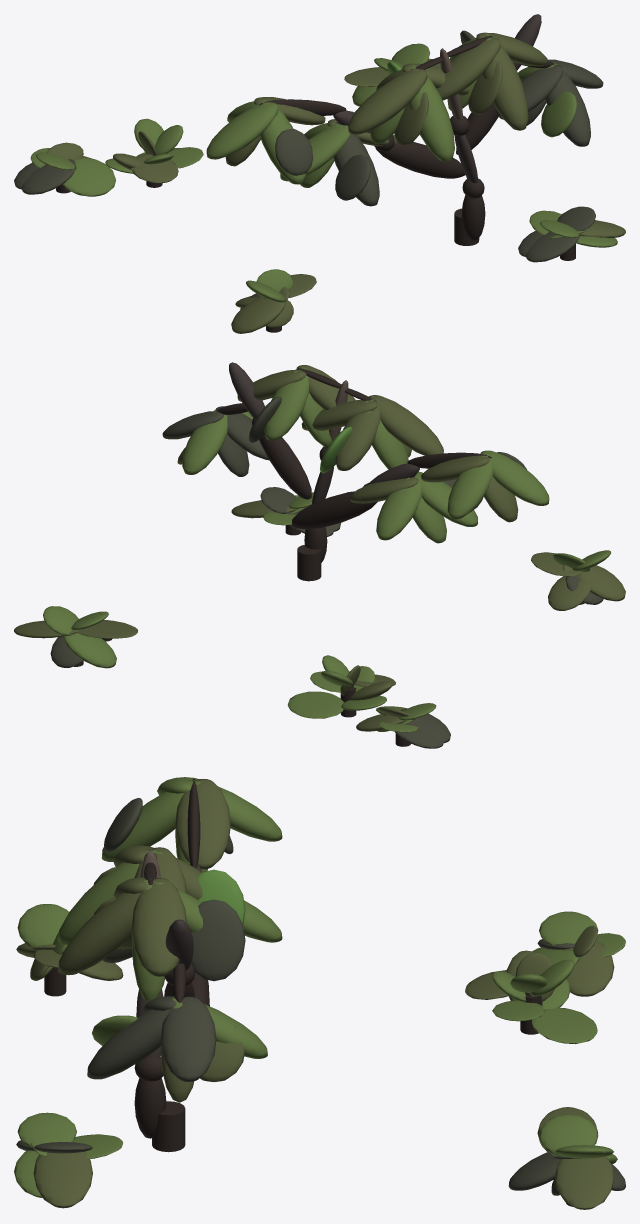
The model's file is CMU3DRMCBushb2.glb.
3 views of the same model, one above another, from view 1: azimuth 30°, elevation 25°; view 2: azimuth 150°, elevation 25°; view 3: azimuth 270°, elevation 25° (orthographic). The views are drawn at different scales.
Parts seen in each view (by area): view 1: crown 2 frond 0, crown 0 frond 0, crown 2 frond 4, crown 3 frond 4, crown 3 frond 0, woody fork 1 section 0, tuft 0 source leaf 4, crown 0 inner frond 0, crown 4 frond 4, tuft 3 source leaf 0, crown 1 frond 0, crown 1 inner frond 0 (+31 smaller); view 2: crown 2 frond 0, crown 0 frond 0, woody fork 1 section 0, crown 1 frond 5, crown 4 frond 5, crown 0 frond 5, crown 2 frond 5, crown 3 frond 5, woody fork 2 section 0, tuft 1 source leaf 6, tuft 2 source leaf 1, crown 2 frond 3 (+29 smaller); view 3: crown 3 frond 3, crown 4 frond 3, crown 3 inner frond 1, crown 3 frond 4, crown 0 frond 3, crown 4 frond 4, tuft 4 source leaf 3, tuft 2 source leaf 3, crown 0 frond 4, crown 2 frond 4, tuft 1 source leaf 6, tuft 0 source leaf 3 (+28 smaller).
Part boxes in pixels (bbox=[...]): crown 2 frond 0: bbox=[348, 69, 427, 134]; crown 0 frond 0: bbox=[206, 102, 278, 159]; crown 2 frond 4: bbox=[408, 66, 454, 161]; crown 3 frond 4: bbox=[482, 35, 528, 130]; crown 3 frond 0: bbox=[436, 38, 500, 100]; woody fork 1 section 0: bbox=[375, 142, 465, 178]; tuft 0 source leaf 4: bbox=[62, 157, 115, 196]; crown 0 inner frond 0: bbox=[275, 129, 313, 175]; crown 4 frond 4: bbox=[545, 70, 590, 146]; tuft 3 source leaf 0: bbox=[231, 296, 286, 333]; crown 1 frond 0: bbox=[280, 125, 351, 181]; crown 1 inner frond 0: bbox=[335, 154, 370, 200]; crown 2 frond 0: bbox=[368, 395, 443, 455]; crown 0 frond 0: bbox=[480, 450, 549, 505]; woody fork 1 section 0: bbox=[291, 491, 377, 529]; crown 1 frond 5: bbox=[376, 474, 421, 540]; crown 4 frond 5: bbox=[182, 409, 227, 474]; crown 0 frond 5: bbox=[447, 453, 492, 519]; crown 2 frond 5: bbox=[335, 397, 380, 470]; crown 3 frond 5: bbox=[264, 367, 309, 440]; woody fork 2 section 0: bbox=[259, 435, 311, 499]; tuft 1 source leaf 6: bbox=[287, 691, 343, 718]; tuft 2 source leaf 1: bbox=[63, 633, 116, 668]; crown 2 frond 3: bbox=[301, 400, 378, 430]; crown 3 frond 3: bbox=[131, 878, 186, 976]; crown 4 frond 3: bbox=[160, 996, 216, 1081]; crown 3 inner frond 1: bbox=[191, 899, 245, 981]; crown 3 frond 4: bbox=[58, 880, 157, 975]; crown 0 frond 3: bbox=[175, 779, 230, 869]; crown 4 frond 4: bbox=[87, 999, 186, 1079]; tuft 4 source leaf 3: bbox=[33, 1141, 92, 1208]; tuft 2 source leaf 3: bbox=[555, 1156, 614, 1209]; crown 0 frond 4: bbox=[101, 781, 200, 861]; crown 2 frond 4: bbox=[58, 850, 157, 944]; tuft 1 source leaf 6: bbox=[532, 1007, 597, 1044]; tuft 0 source leaf 3: bbox=[562, 941, 614, 996].
Size of the model in its own units: 0.9371 by 0.4171 by 0.8438.
